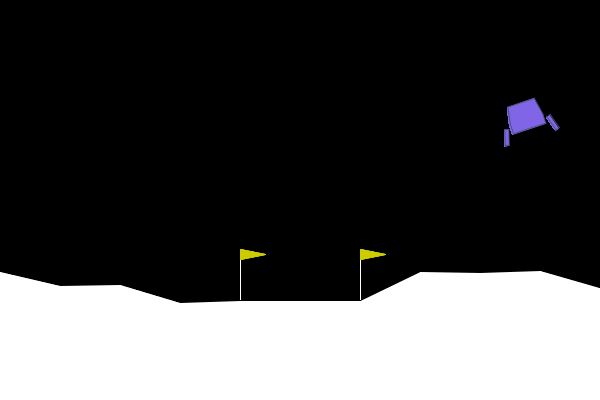lander: (491, 92, 561, 149)
